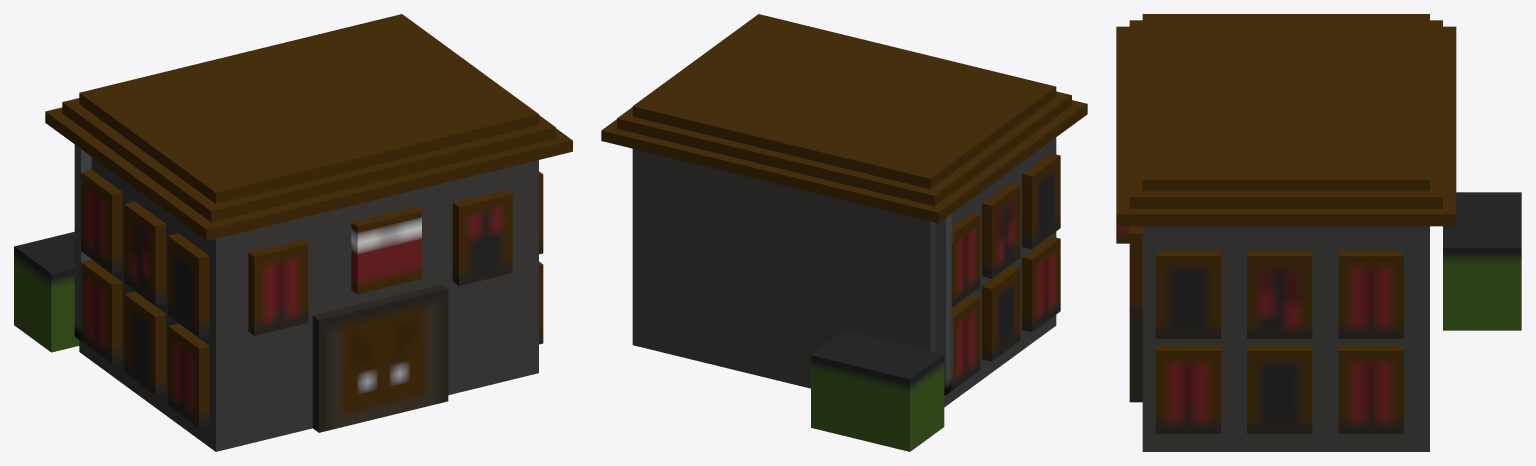
File: Hotel2.dae
The picture shows the model from 3 angles, left to right: view 1: azimuth 30°, elevation 25°; view 2: azimuth 150°, elevation 25°; view 3: azimuth 270°, elevation 25°; orthographic projection. The views are drawn at different scales.
Parts seen in each view (by area): view 1: Hotel2; view 2: Hotel2; view 3: Hotel2.
Boxes of the visible parts, x1,y1,x2,y2 form: Hotel2: (14,14,572,451); Hotel2: (601,14,1087,451); Hotel2: (1116,14,1521,451).
Size of the model in its own units: 34 by 23 by 31.
Materials: 1 (1 with a texture image).
